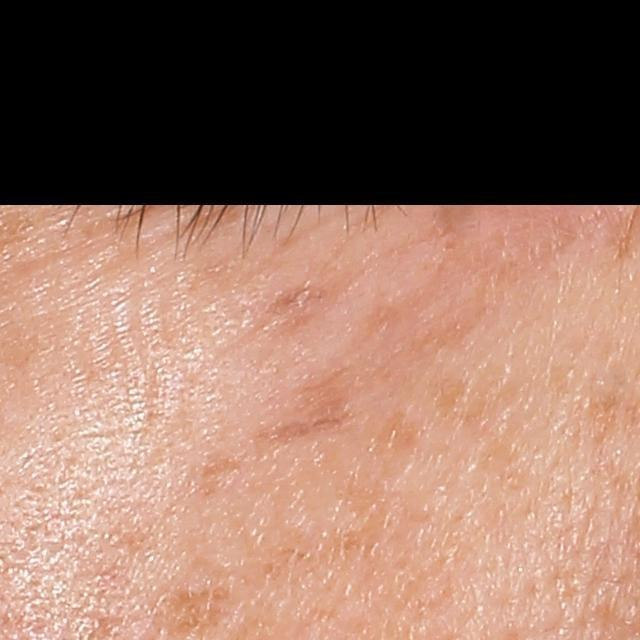melasma: (189, 382, 361, 492), (256, 506, 417, 594), (426, 367, 515, 428), (364, 411, 433, 473), (259, 279, 327, 320)
